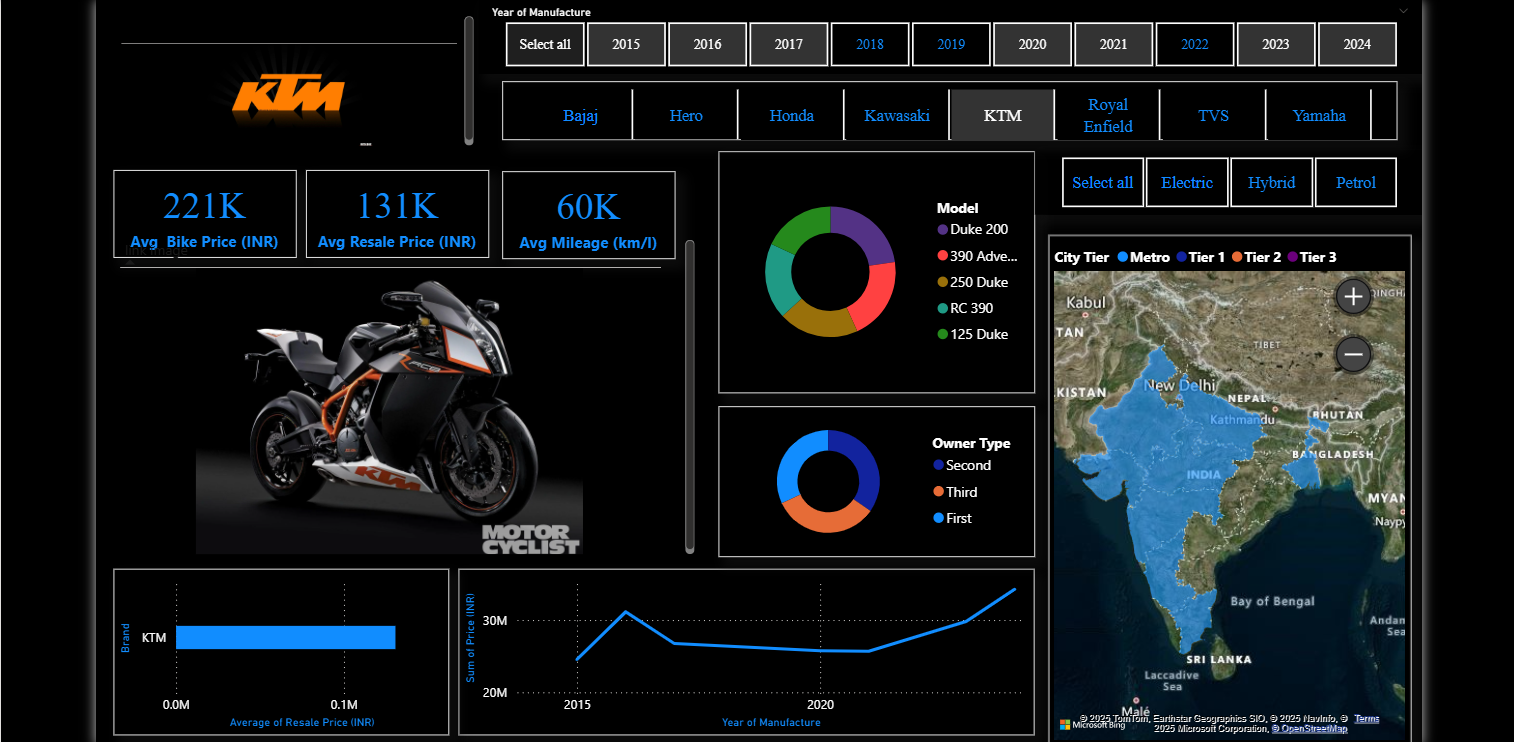

This screenshot's page, from the dashboard's own definition file:
{"tool":"powerbi","page":{"name":"Page 1","canvas":[1280,720],"ordinal":0},"visuals":[{"type":"card","fields":{"Values":["Avg(Sheet1.Price (INR))"]},"box":[16.7,164,176.5,84.8],"z":0},{"type":"card","fields":{"Values":["Avg(Sheet1.Resale Price (INR))"]},"box":[203,164,176.5,84.8],"z":1000},{"type":"card","fields":{"Values":["Sum(Sheet1.Mileage (km/l))"]},"box":[392,165.4,166.8,84.8],"z":2000},{"type":"lineChart","fields":{"Category":["Sheet1.Year of Manufacture"],"Y":["Sum(Sheet1.Price (INR))"]},"box":[349.9,548.9,556.2,160.5],"z":3000},{"type":"barChart","fields":{"Category":["Sheet1.Brand"],"Y":["Avg(Sheet1.Resale Price (INR))"]},"box":[16.5,548.9,323.8,160.5],"z":4000},{"type":"donutChart","fields":{"Category":["Sheet1.Model"],"Y":["CountNonNull(Sheet1.Model)"]},"box":[600.5,146,305.8,233.5],"z":5000},{"type":"donutChart","fields":{"Category":["Sheet1.Owner Type"],"Y":["CountNonNull(Sheet1.Model)"]},"box":[600.5,392,305.8,146],"z":6000},{"type":"slicer","fields":{"Values":["Sheet1.Fuel Type"]},"box":[906.3,144.6,373.9,62.6],"z":7000},{"type":"filledMap","fields":{"Category":["Sheet1.State"],"Series":["Sheet1.City Tier"]},"box":[918.9,226.6,350.3,493.5],"z":8000},{"type":"slicer","fields":{"Values":["Sheet1.Year of Manufacture"]},"box":[369.8,0,910.5,70.9],"z":9000},{"type":"tableEx","fields":{"Values":["Table.link image"]},"box":[16.7,226.6,565.8,312.8],"z":10000},{"type":"slicer","fields":{"Values":["Table.Brand"]},"box":[392.1,78.4,863.8,56.7],"z":11000},{"type":"tableEx","fields":{"Values":["loko (2).logo2"]},"box":[18.1,11.1,351.7,134.8],"z":12000}]}

Visuals, with their boxes on the page's 1280x720 design canvas (x1, y1, x2, y2). These are canvas units, not pixel positions in the 1514x742 screenshot, which may show the page scaled, cropped or inside an application window:
card - Avg(Sheet1.Price (INR)): locate(17, 164, 193, 249)
card - Avg(Sheet1.Resale Price (INR)): locate(203, 164, 380, 249)
card - Sum(Sheet1.Mileage (km/l)): locate(392, 165, 559, 250)
lineChart - Sheet1.Year of Manufacture x Sum(Sheet1.Price (INR)): locate(350, 549, 906, 709)
barChart - Sheet1.Brand x Avg(Sheet1.Resale Price (INR)): locate(16, 549, 340, 709)
donutChart - Sheet1.Model x CountNonNull(Sheet1.Model): locate(600, 146, 906, 380)
donutChart - Sheet1.Owner Type x CountNonNull(Sheet1.Model): locate(600, 392, 906, 538)
slicer - Sheet1.Fuel Type: locate(906, 145, 1280, 207)
filledMap - Sheet1.State x Sheet1.City Tier: locate(919, 227, 1269, 720)
slicer - Sheet1.Year of Manufacture: locate(370, 0, 1280, 71)
tableEx - Table.link image: locate(17, 227, 582, 539)
slicer - Table.Brand: locate(392, 78, 1256, 135)
tableEx - loko (2).logo2: locate(18, 11, 370, 146)
